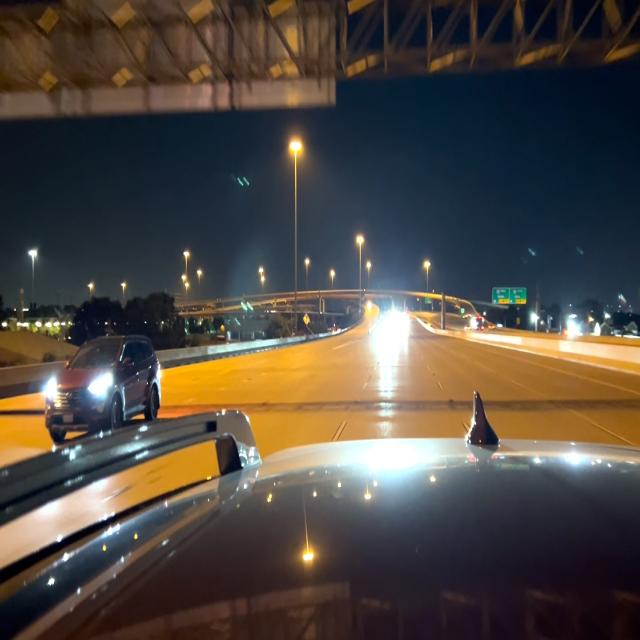back-of-sign: (1, 2, 336, 105)
